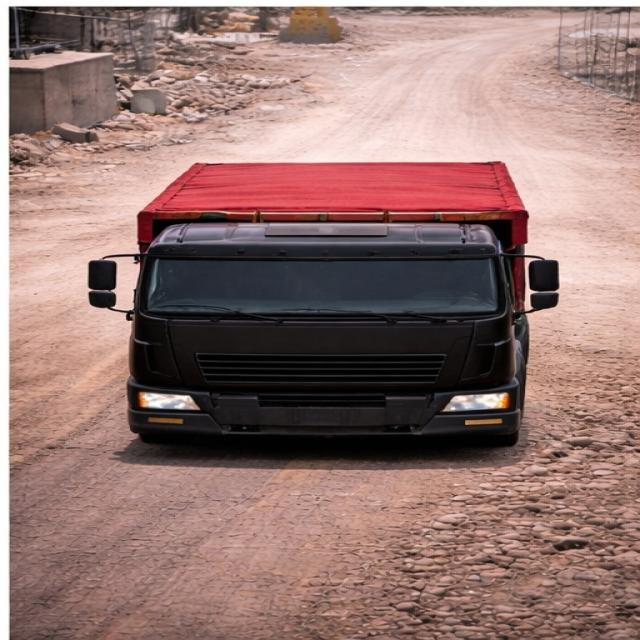trailer: (98, 156, 559, 212)
truck: (79, 113, 566, 456)
